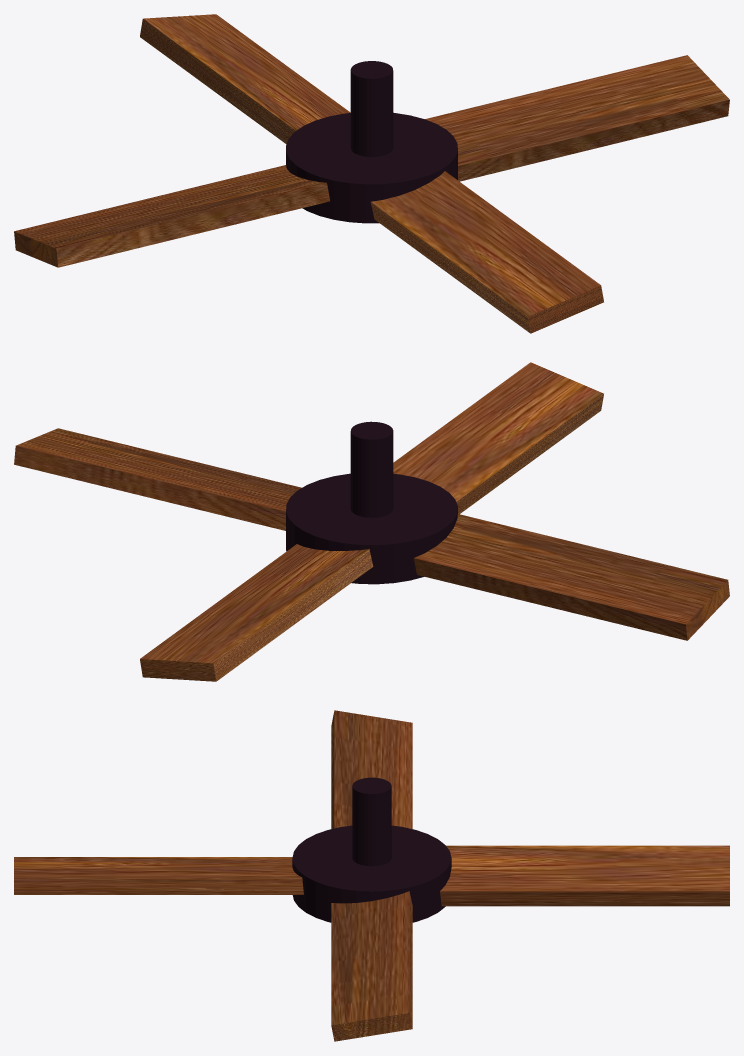
File: fan.glb
3 views of the same model, one above another, from view 1: azimuth 30°, elevation 25°; view 2: azimuth 150°, elevation 25°; view 3: azimuth 270°, elevation 25° (orthographic). The views are drawn at different scales.
Parts seen in each view (by area): view 1: Cube, Cube.003, Cylinder, Cube.002, Cube.001; view 2: Cube.002, Cylinder, Cube.003, Cube.001, Cube; view 3: Cube.001, Cylinder, Cube, Cube.003, Cube.002.
Boxes of the visible parts, x1,y1,x2,y2 form: Cube: (425, 55, 729, 181); Cube.003: (370, 171, 603, 333); Cylinder: (286, 61, 457, 223); Cube.002: (14, 165, 329, 267); Cube.001: (140, 14, 350, 143); Cube.002: (413, 514, 729, 640); Cylinder: (286, 421, 457, 584); Cube.003: (393, 362, 603, 514); Cube.001: (140, 544, 373, 681); Cube: (14, 428, 301, 530); Cube.001: (440, 845, 729, 906); Cylinder: (292, 777, 451, 922); Cube: (331, 891, 412, 1041); Cube.003: (14, 857, 303, 894); Cube.002: (331, 710, 412, 828).
Bounding box in the file's own units: 9 × 1.6 × 9.
3 materials, 2 textured.
